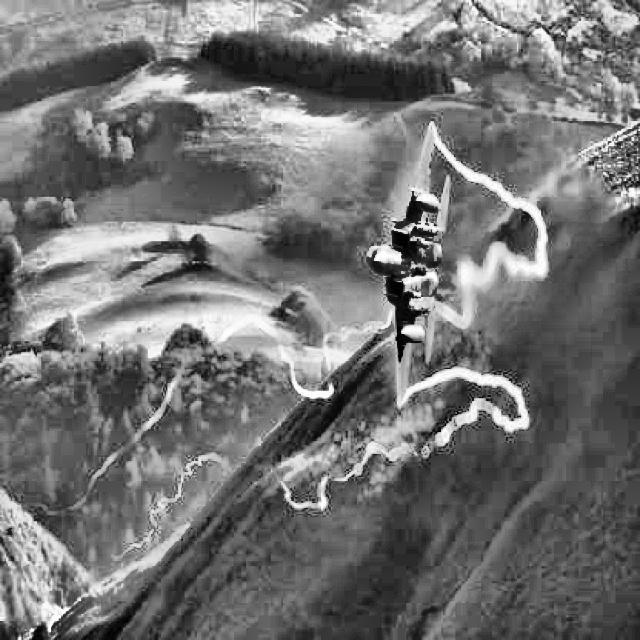F15: (367, 121, 451, 408)
